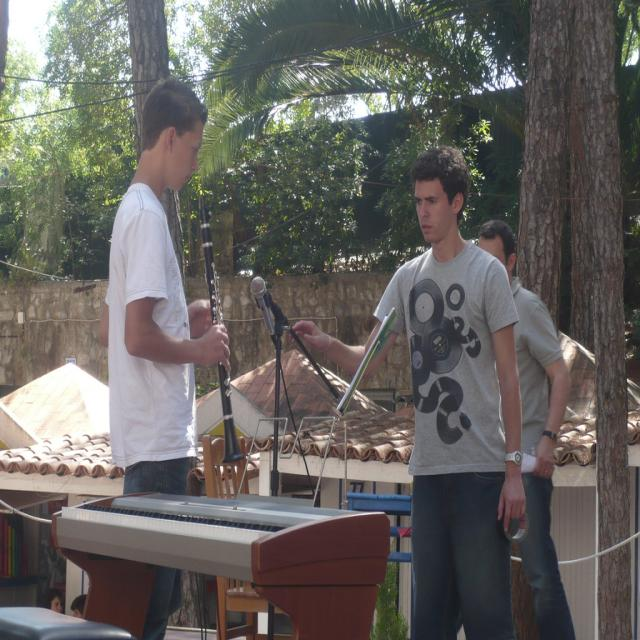clarinet: (194, 191, 241, 467)
